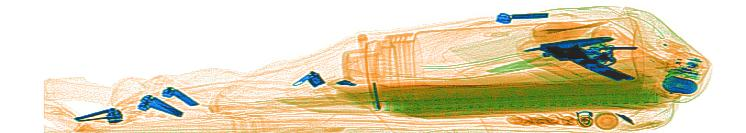battery: (661, 74, 699, 94)
